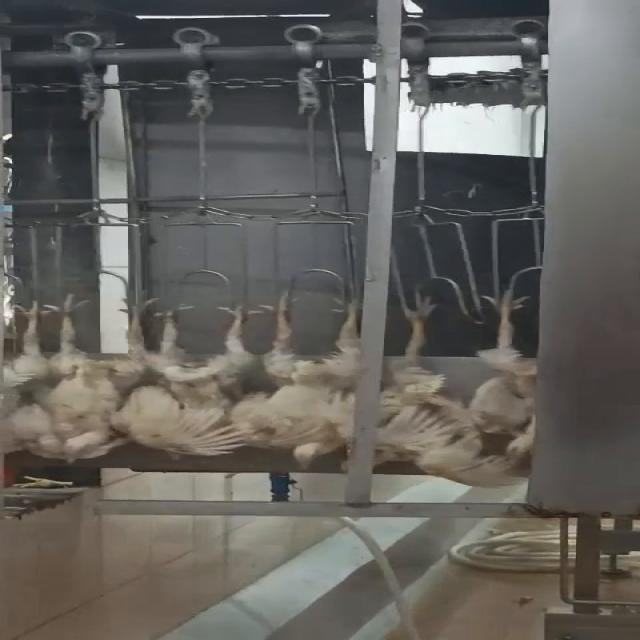chicken: (222, 291, 374, 470), (112, 300, 267, 460), (57, 292, 176, 462), (364, 296, 470, 478), (457, 291, 549, 485), (0, 295, 67, 457)
